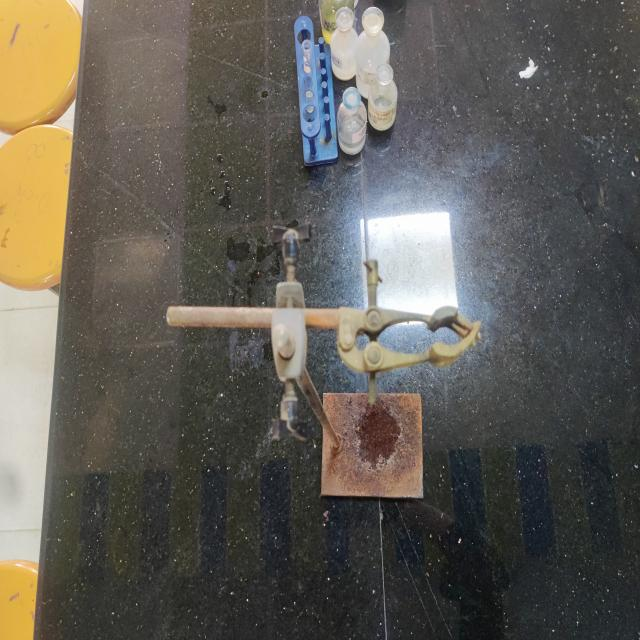Burette_Stands: (133, 205, 504, 555)
